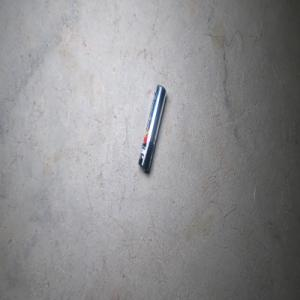Battery: (138, 83, 166, 173)
